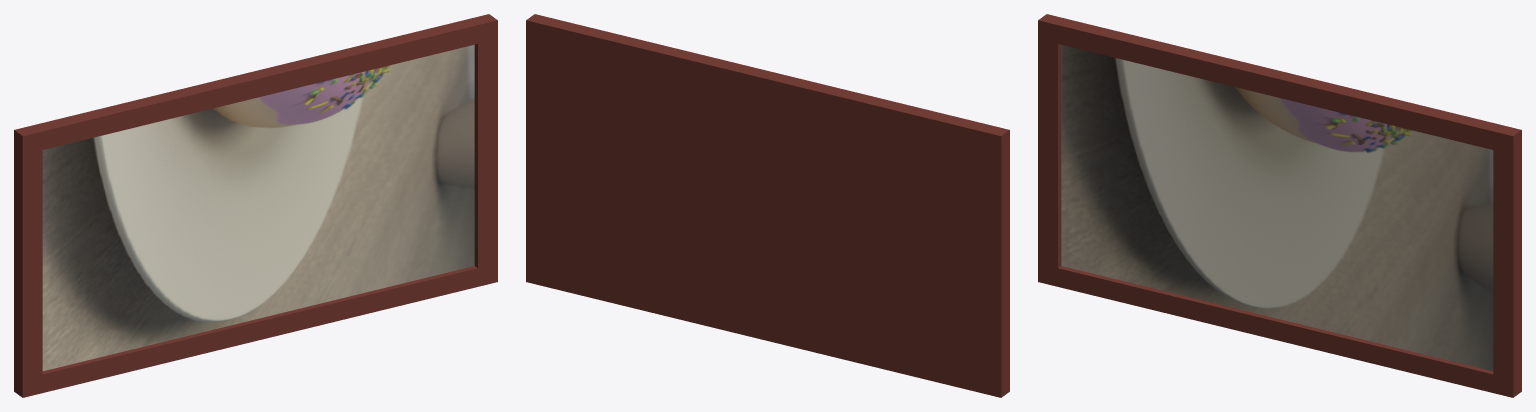
Rendered from C_Frame_2.fbx.
The picture shows the model from 3 angles, left to right: view 1: azimuth 30°, elevation 25°; view 2: azimuth 150°, elevation 25°; view 3: azimuth 330°, elevation 25°; orthographic projection.
Parts seen in each view (by area): view 1: C_Frame_2; view 2: C_Frame_2; view 3: C_Frame_2.
Part boxes in pixels (left/top/right/bottom): C_Frame_2: left=14, top=14, right=497, bottom=397; C_Frame_2: left=526, top=14, right=1009, bottom=397; C_Frame_2: left=1038, top=14, right=1521, bottom=397.
Size of the model in its own units: 1236 by 39.04 by 651.
